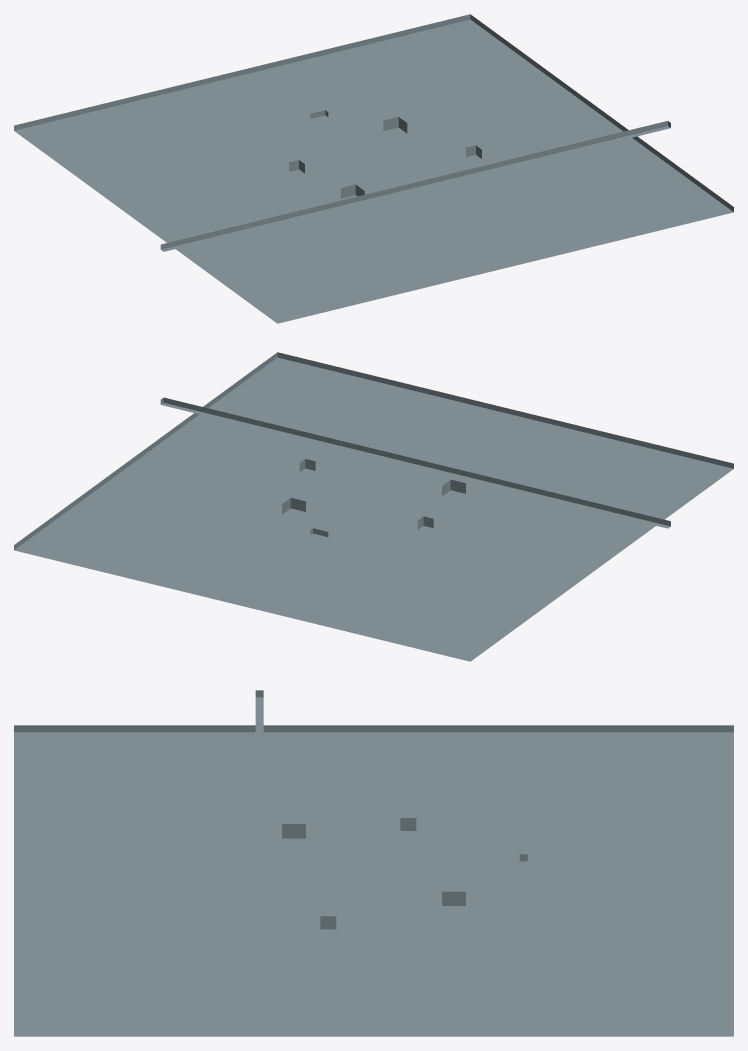
The model's file is scene_map.glb.
3 renders of one model, top to bottom at view 1: azimuth 30°, elevation 25°; view 2: azimuth 150°, elevation 25°; view 3: azimuth 270°, elevation 25°, orthographic. The views are drawn at different scales.
Parts seen in each view (by area): view 1: SceneMap; view 2: SceneMap; view 3: SceneMap.
Boxes of the visible parts, bbox=[...] form: SceneMap: bbox=[14, 14, 733, 323]; SceneMap: bbox=[14, 352, 733, 661]; SceneMap: bbox=[14, 690, 733, 1036].
Bounding box in the file's own units: 100 × 3.5 × 90.
